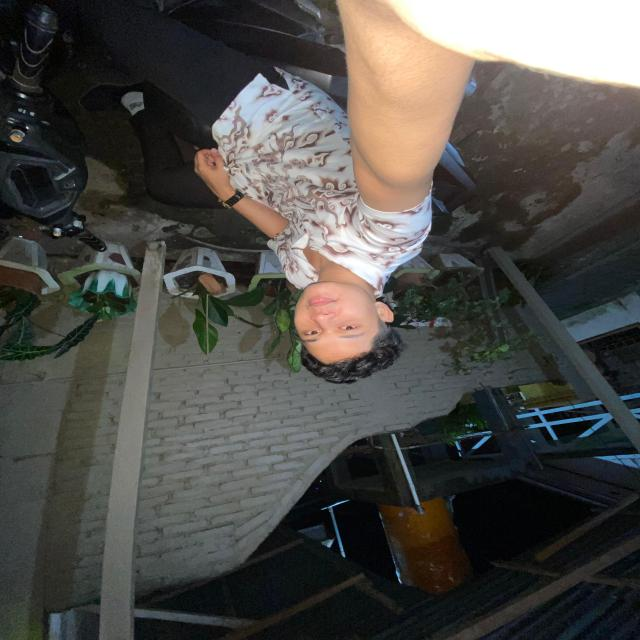nohelmet: (288, 272, 400, 388)
